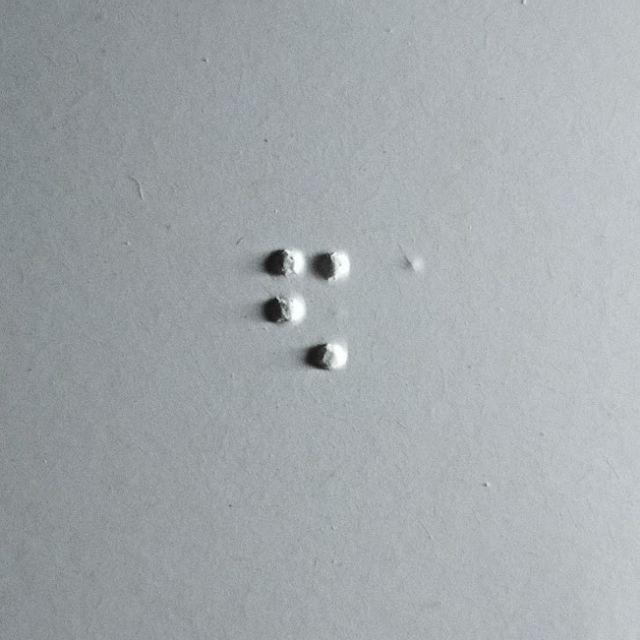nag: (265, 248, 348, 371)
